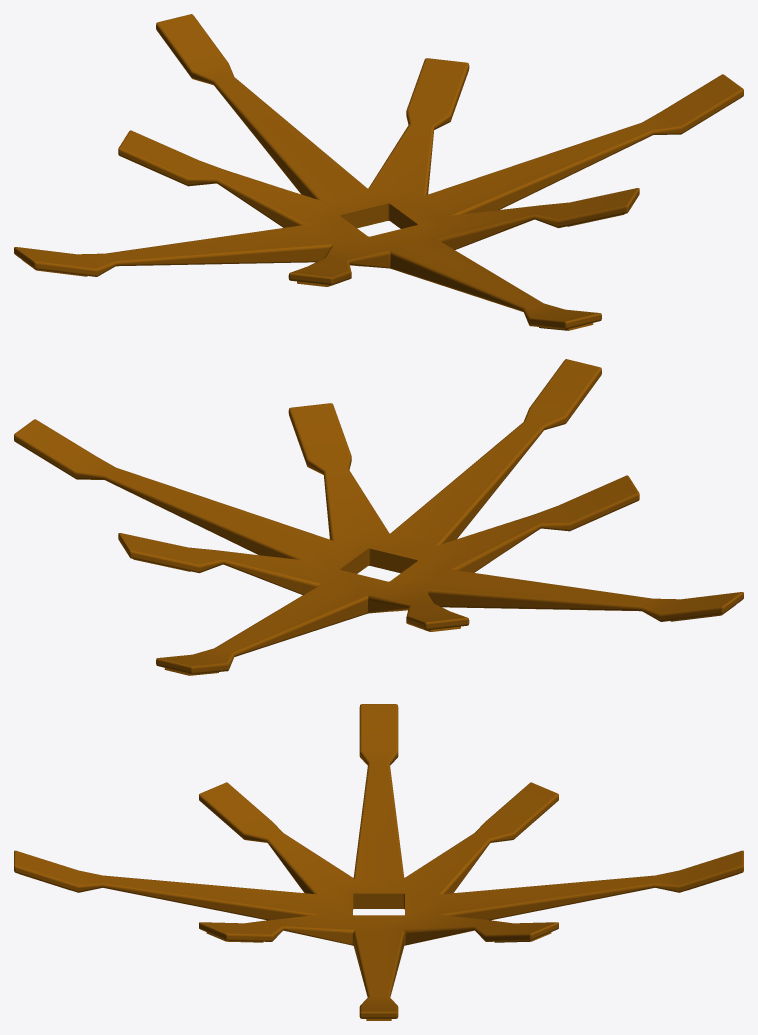
Rendered from Street_Lamp_Lights_02.fbx.
3 renders of one model, top to bottom at view 1: azimuth 30°, elevation 25°; view 2: azimuth 150°, elevation 25°; view 3: azimuth 270°, elevation 25°, orthographic. The views are drawn at different scales.
Visible parts, largest first — view 1: Street_Lamp_Lights_02; view 2: Street_Lamp_Lights_02; view 3: Street_Lamp_Lights_02.
Part boxes in pixels (left/top/right/bottom): Street_Lamp_Lights_02: left=14, top=14, right=743, bottom=330; Street_Lamp_Lights_02: left=14, top=359, right=743, bottom=675; Street_Lamp_Lights_02: left=14, top=704, right=743, bottom=1020.
Bounding box in the file's own units: 500 × 46.75 × 500.
